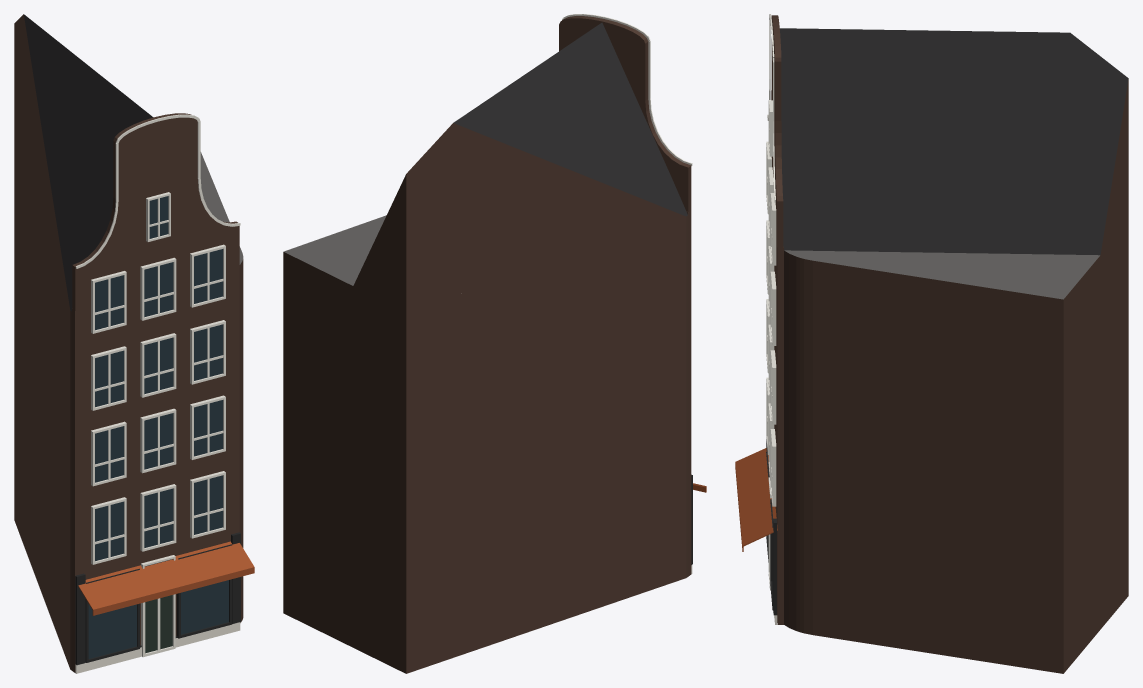
3 renders of one model, left to right at view 1: azimuth 30°, elevation 25°; view 2: azimuth 150°, elevation 25°; view 3: azimuth 270°, elevation 25°, orthographic. The views are drawn at different scales.
Parts seen in each view (by area): view 1: spec-0363100012181808; view 2: spec-0363100012181808; view 3: spec-0363100012181808.
Part boxes in pixels (bbox=[...]): spec-0363100012181808: bbox=[14, 14, 254, 673]; spec-0363100012181808: bbox=[283, 14, 706, 673]; spec-0363100012181808: bbox=[735, 14, 1128, 673].
Size of the model in its own units: 9.06 by 17.46 by 11.19.
